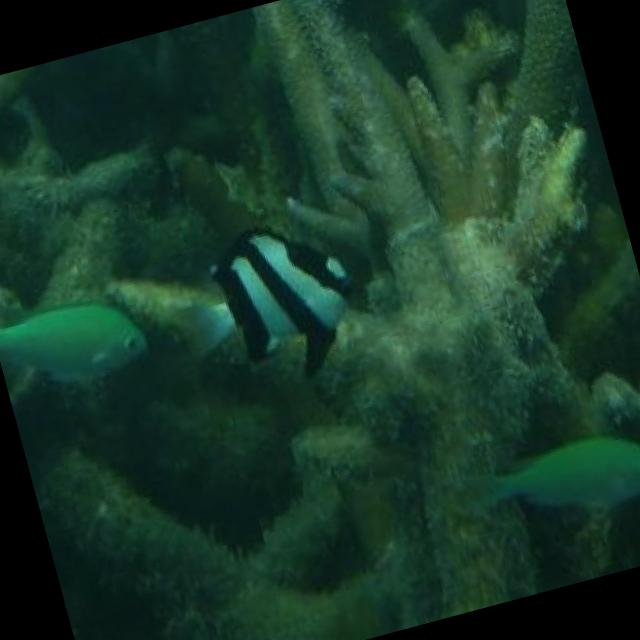Three_striped DasmselFish: (165, 206, 375, 410)
